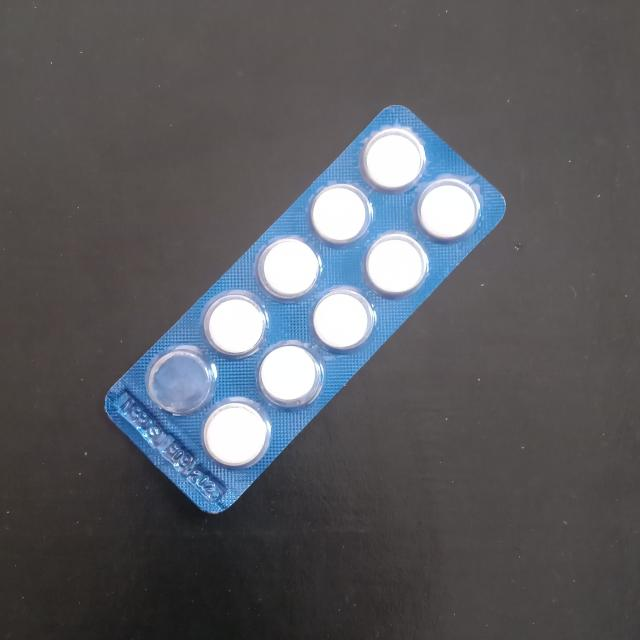defect: (147, 347, 212, 416)
